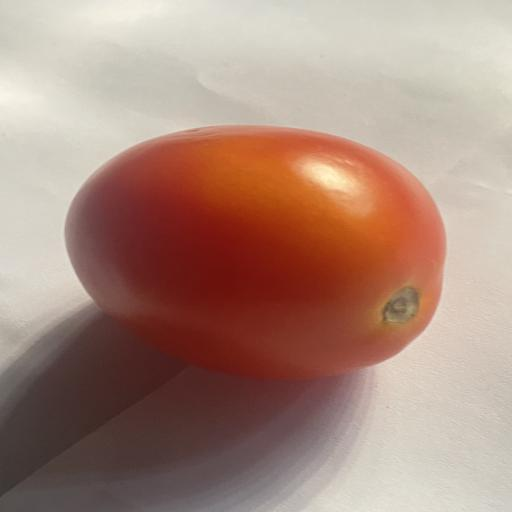ripe: (66, 126, 445, 379)
